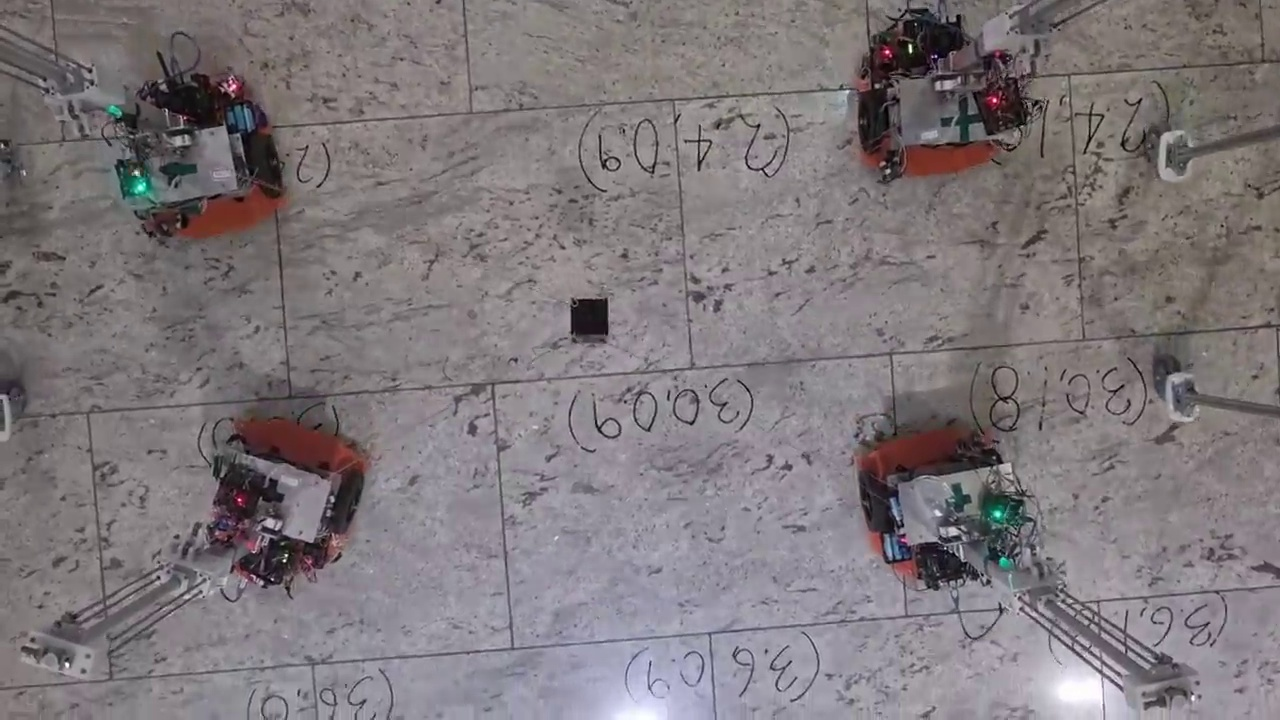e0: (569, 297, 608, 337)
r1: (860, 448, 1005, 533)
r2: (857, 78, 1030, 157)
r3: (114, 134, 284, 220)
r4: (214, 448, 365, 534)
y_+_axis_vector: (691, 341, 1082, 369)
y_-_axis_vector: (289, 370, 692, 397)
